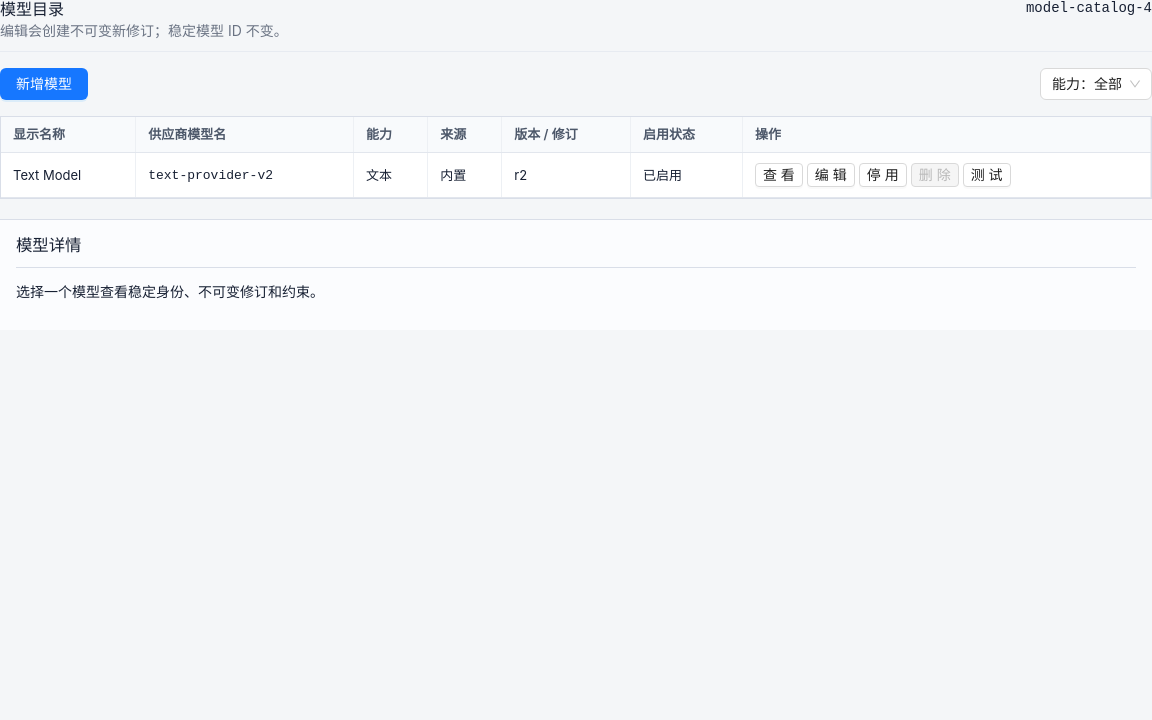
Test: supplier models panel › does not silently replace an invalid AIXORA reasoning value
Check: the cell "Text Model" is shown, box [1,153,136,198]
Click the button named "编辑 Text Model": click(831, 175) [807,163,855,187]
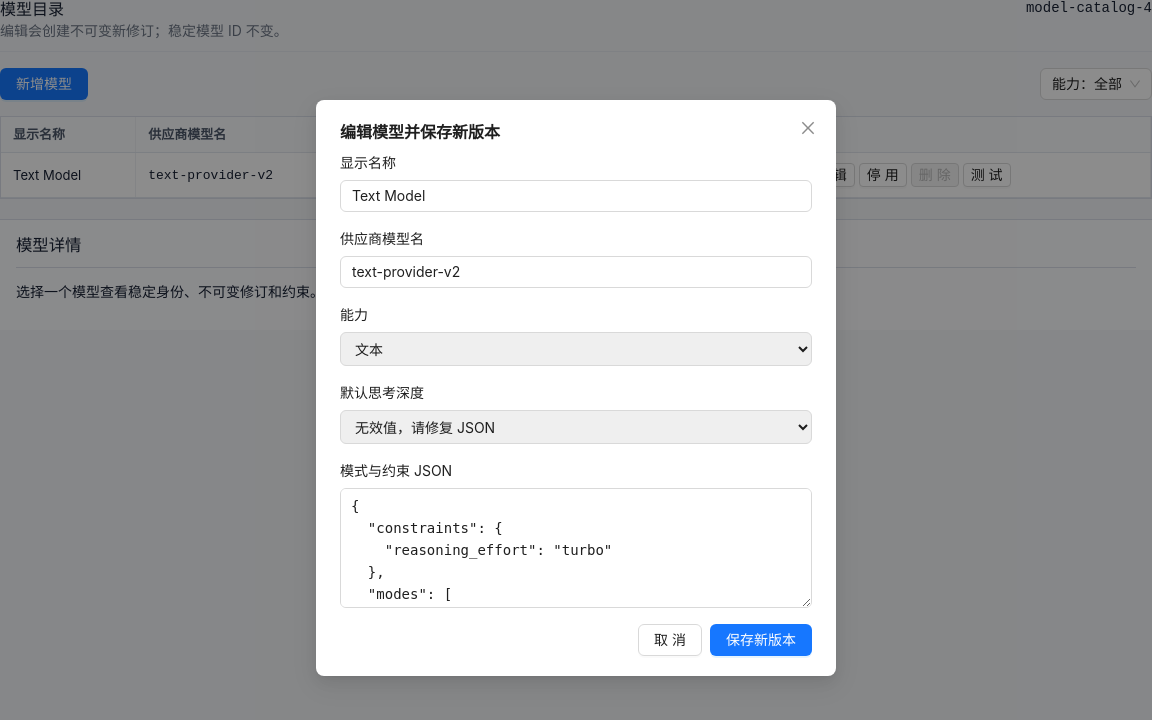
Check: the dropdown labelled "默认思考深度" shows "无效值，请修复 JSON", box [340,410,812,444]
Click the button "保存新版本": click(761, 640) [710,624,812,656]
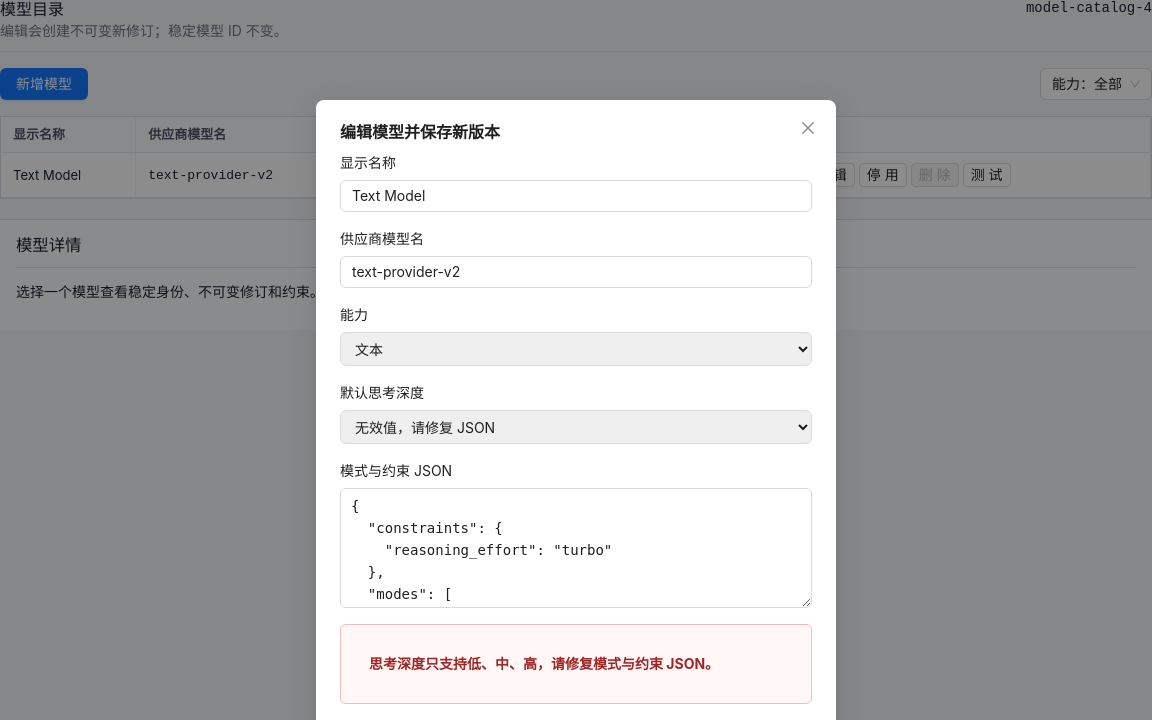
Check: the text "思考深度只支持低、中、高，请修复模式与约束 JSON。" is shown, box [369,655,719,672]
